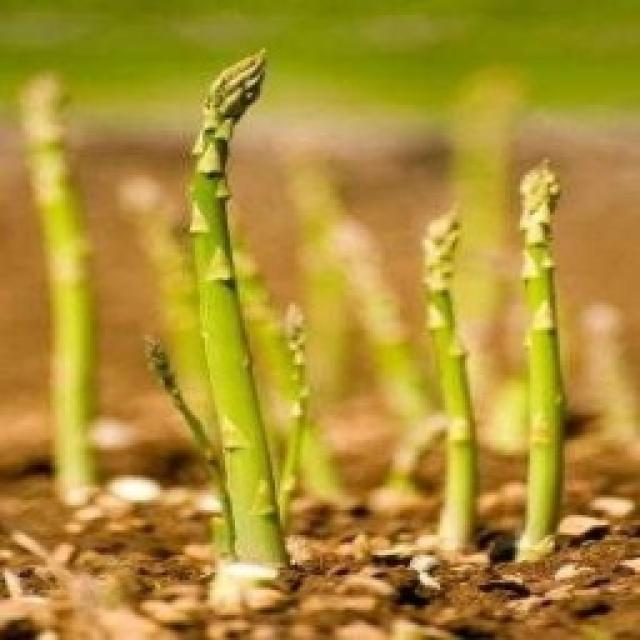Asparagus spear: (168, 72, 320, 590), (512, 137, 610, 575), (424, 189, 504, 576)
